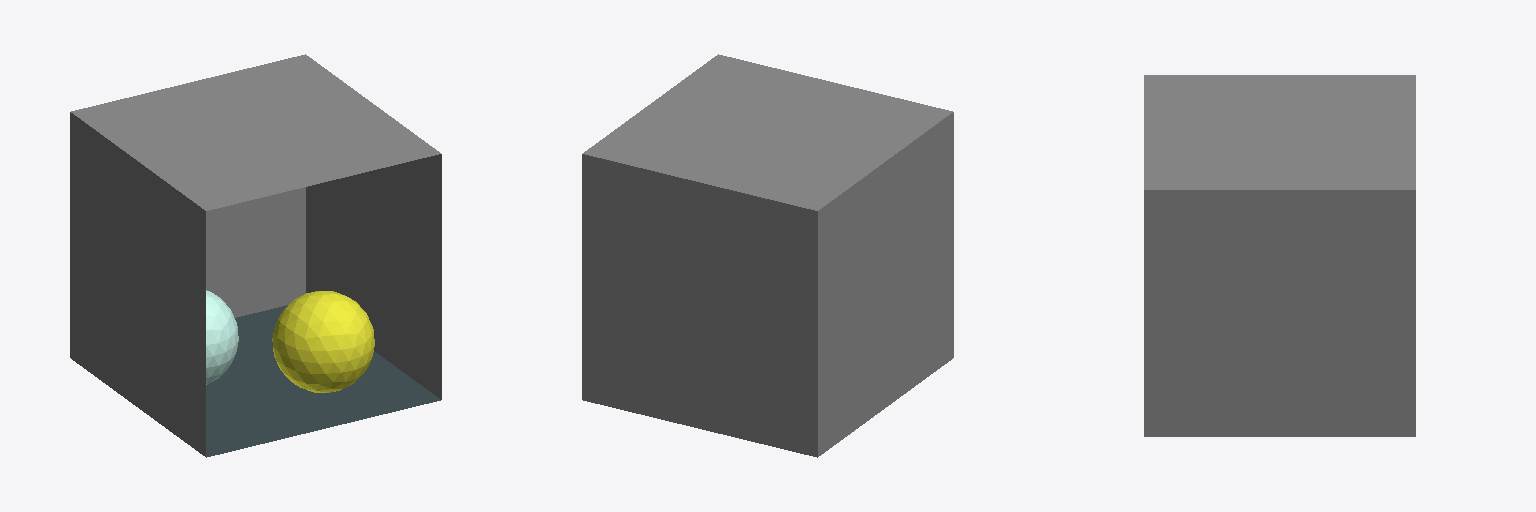
3 views of the same model, side by side, from view 1: azimuth 30°, elevation 25°; view 2: azimuth 150°, elevation 25°; view 3: azimuth 270°, elevation 25° (orthographic).
Parts seen in each view (by area): view 1: g Box001_Material__51, g Box001_Material__26, g Box001_Material__38, g Box001_Material__74, g GeoSphere002_Material__86, g GeoSphere001_Material__87; view 2: g Box001_Material__51, g Box001_Material__26; view 3: g Box001_Material__38, g Box001_Material__51.
Boxes of the visible parts, box(x1,y1,x2,y2) form: g Box001_Material__51: box(71, 54, 440, 317); g Box001_Material__26: box(70, 112, 205, 456); g Box001_Material__38: box(306, 154, 441, 399); g Box001_Material__74: box(206, 305, 440, 457); g GeoSphere002_Material__86: box(272, 291, 374, 392); g GeoSphere001_Material__87: box(206, 290, 238, 384); g Box001_Material__51: box(582, 54, 952, 457); g Box001_Material__26: box(818, 112, 953, 456); g Box001_Material__38: box(1144, 190, 1415, 436); g Box001_Material__51: box(1144, 75, 1415, 189).
Bounding box in the file's own units: 2 × 2 × 2.
6 materials, 3 textured.